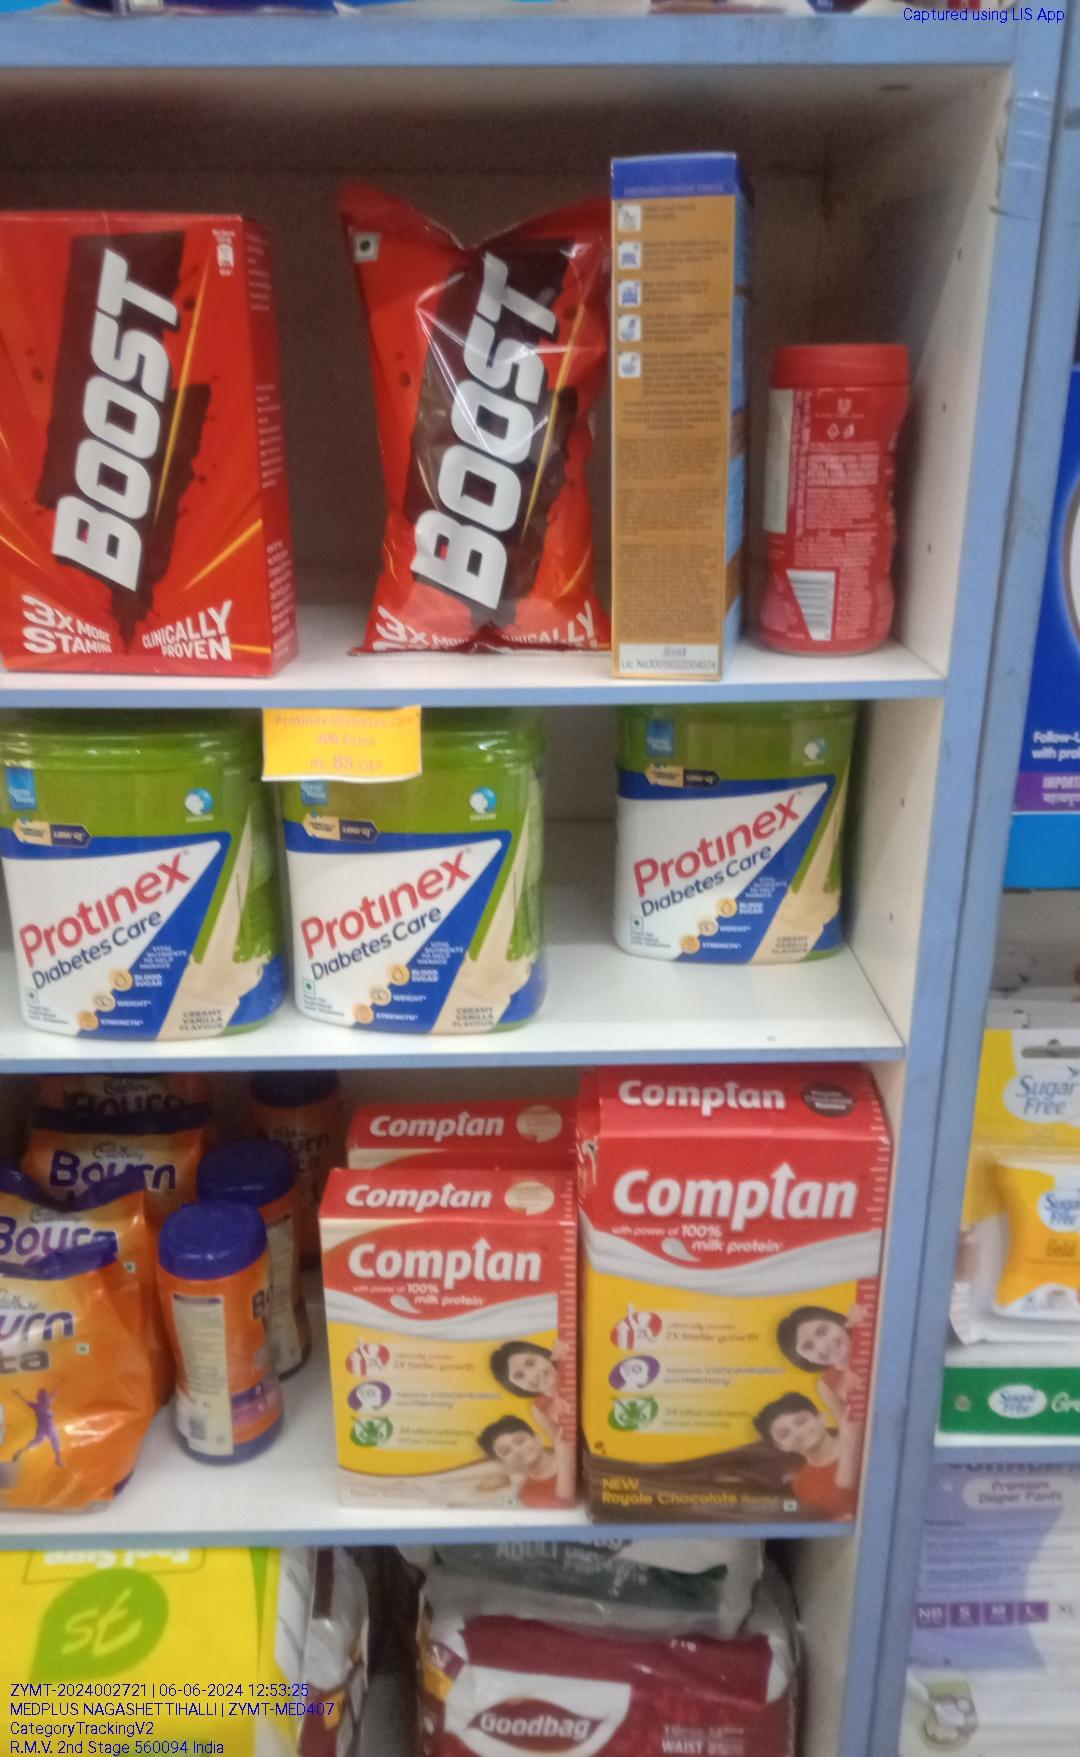COMPLAN_CHOCOLATE_500_GMS_PACK: (588, 1123, 879, 1515)
COMPLAN_KESAR_BADAM_200_GMS_PACK: (321, 1212, 571, 1509)
